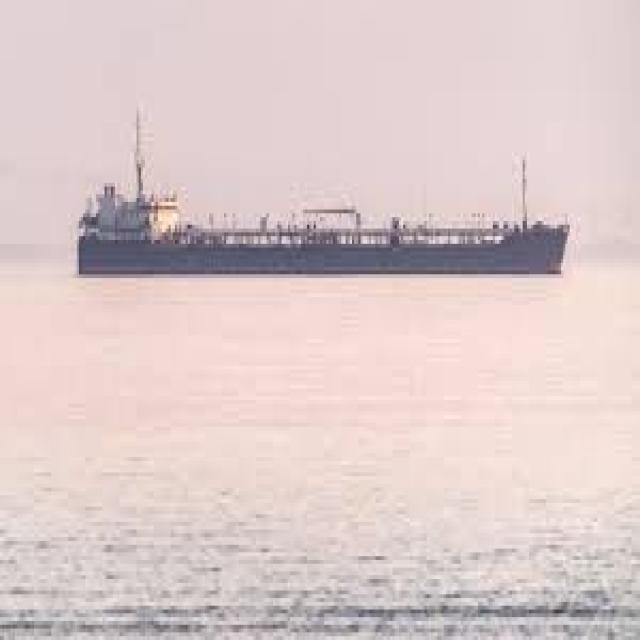cargoship: (74, 107, 572, 275)
